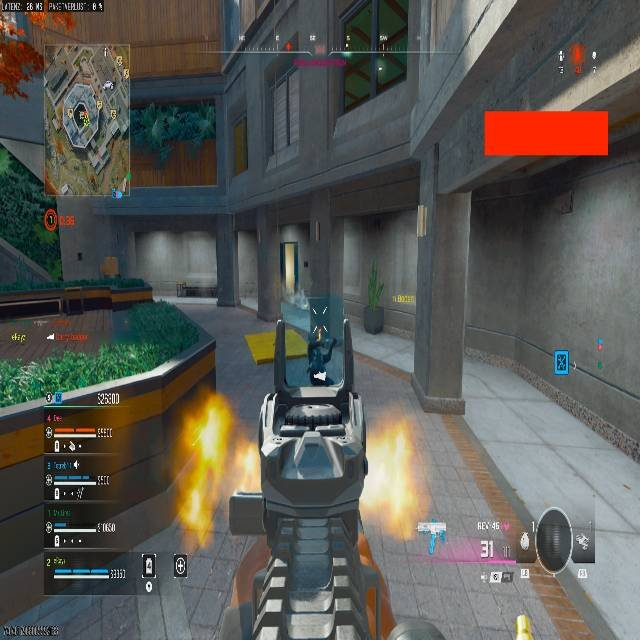head: (313, 324, 326, 340)
player: (305, 323, 337, 381)
